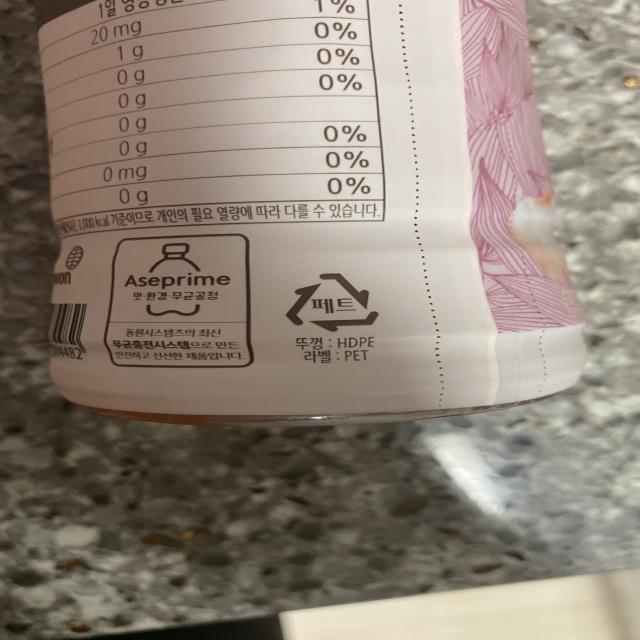PET: (277, 266, 391, 338)
